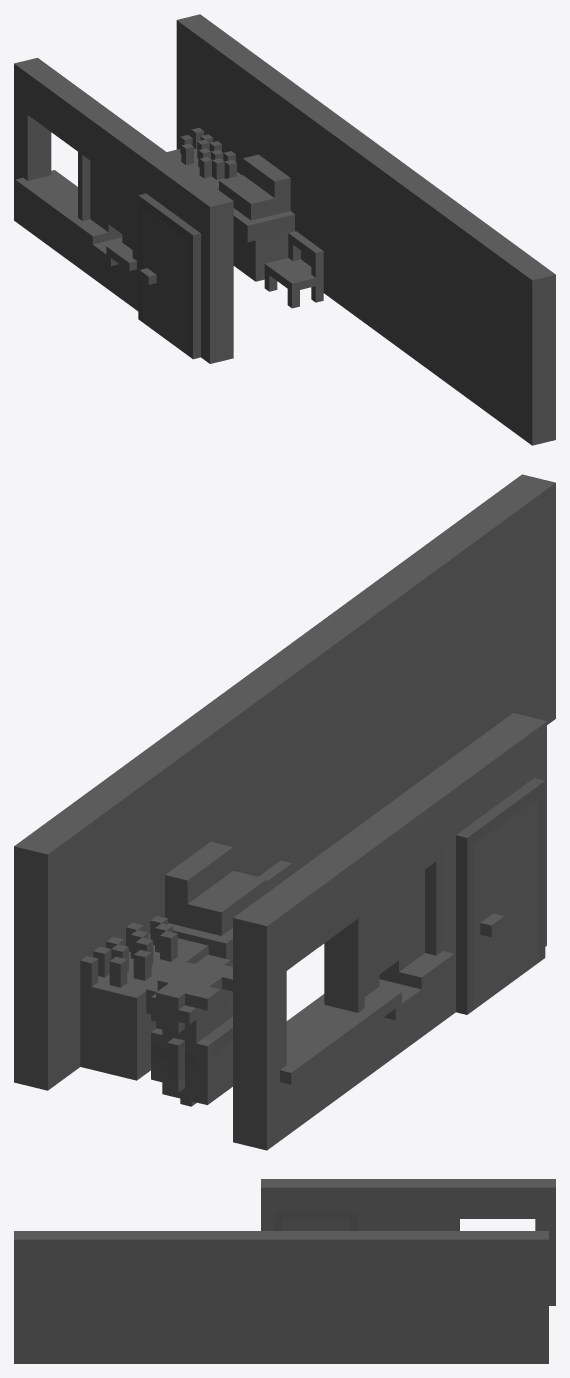
Rendered from scene_arcade.obj.
The picture shows the model from 3 angles, top to bottom: view 1: azimuth 30°, elevation 25°; view 2: azimuth 150°, elevation 25°; view 3: azimuth 270°, elevation 25°; orthographic projection. The views are drawn at different scales.
Bounding box in the file's own units: 25 × 20 × 79.
